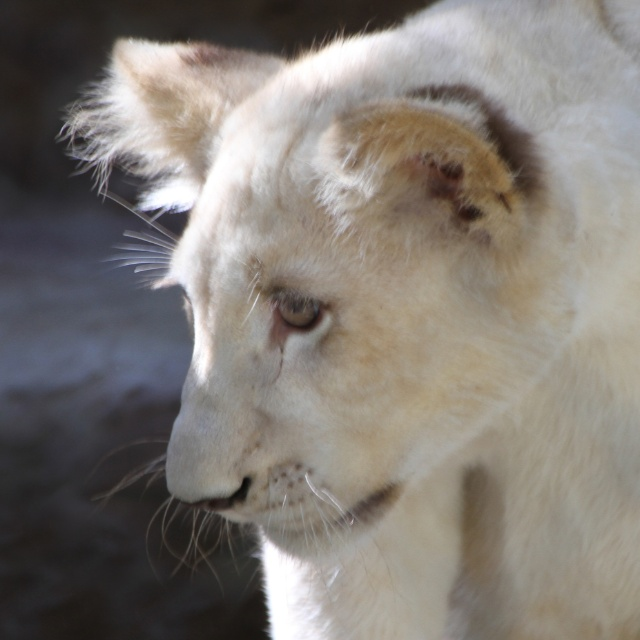Lion: (53, 0, 640, 640)
